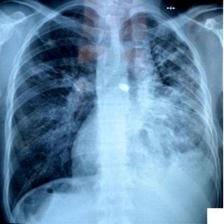tuberculosis: (5, 1, 216, 224)
